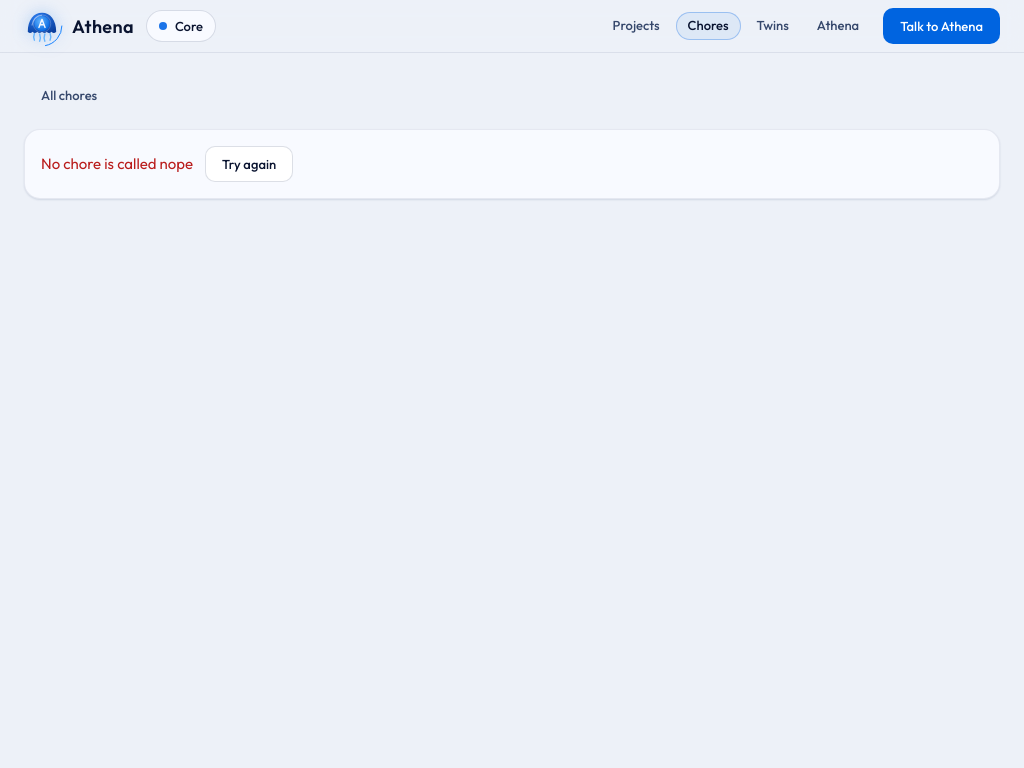
Scenario: the scene in the shell › a chore that cannot be read says why and retries
Check: the text "No chore is called nope" is shown, box [41,153,193,175]
Click the button "Try again" at (249, 164), box [205,146,293,182]
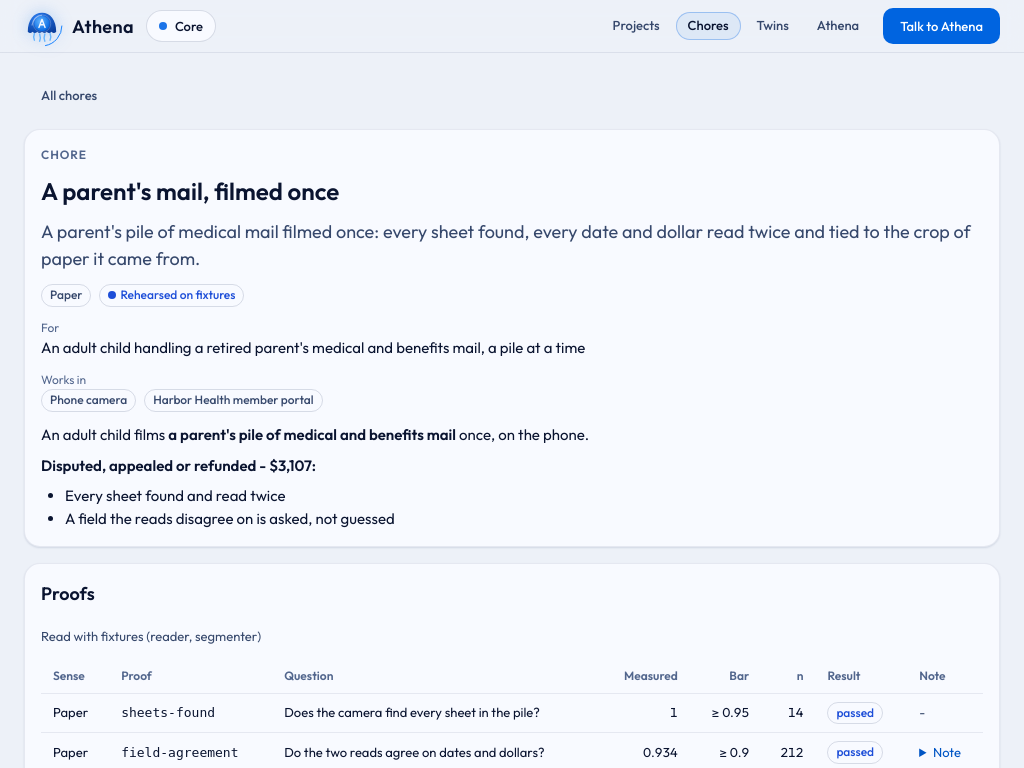
Check: the heading "Proofs" is shown, box [41,582,95,605]
